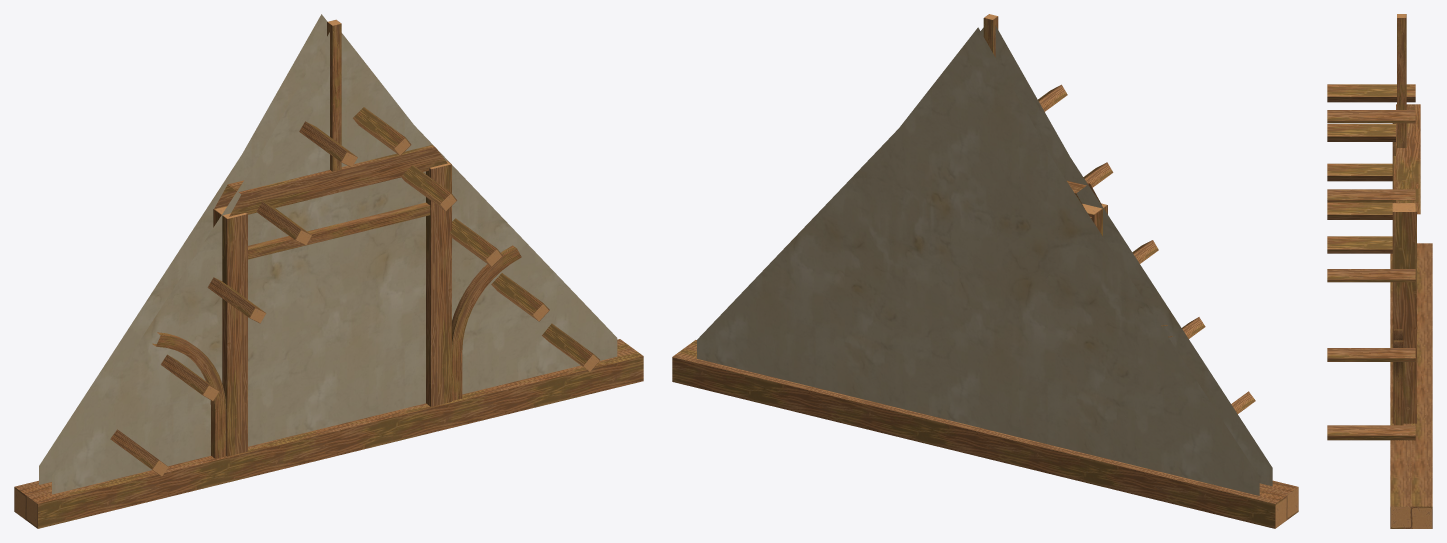
File: Roof_Front_Brick6.glb
3 views of the same model, side by side, from view 1: azimuth 30°, elevation 25°; view 2: azimuth 150°, elevation 25°; view 3: azimuth 270°, elevation 25° (orthographic). The views are drawn at different scales.
Visible parts, largest first — view 1: Roof_Front_Brick6; view 2: Roof_Front_Brick6; view 3: Roof_Front_Brick6.
Part boxes in pixels (x1=…): Roof_Front_Brick6: x1=14, y1=14, x2=643, y2=528; Roof_Front_Brick6: x1=672, y1=14, x2=1298, y2=528; Roof_Front_Brick6: x1=1327, y1=14, x2=1432, y2=528.
Bounding box in the file's own units: 6.69 × 4.52 × 1.13.
2 materials, 2 textured.
